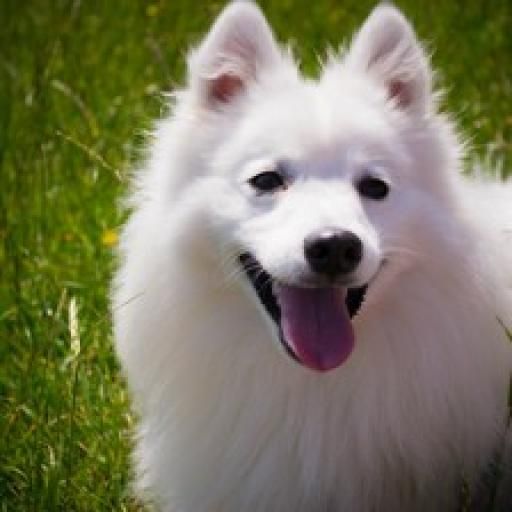dog: (109, 0, 512, 512)
